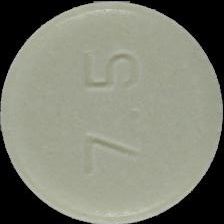70786-0124: (0, 0, 224, 224)
